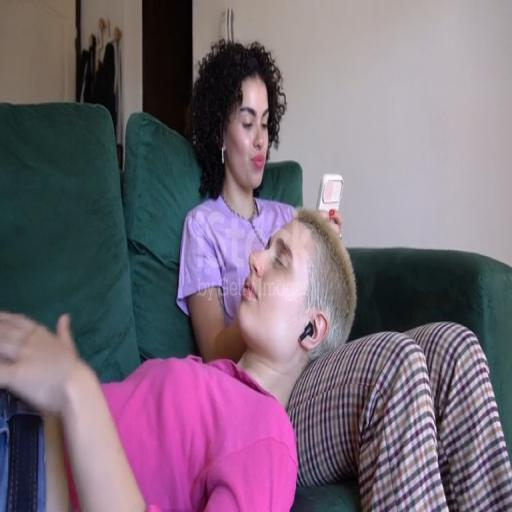earphone: (298, 321, 316, 352)
